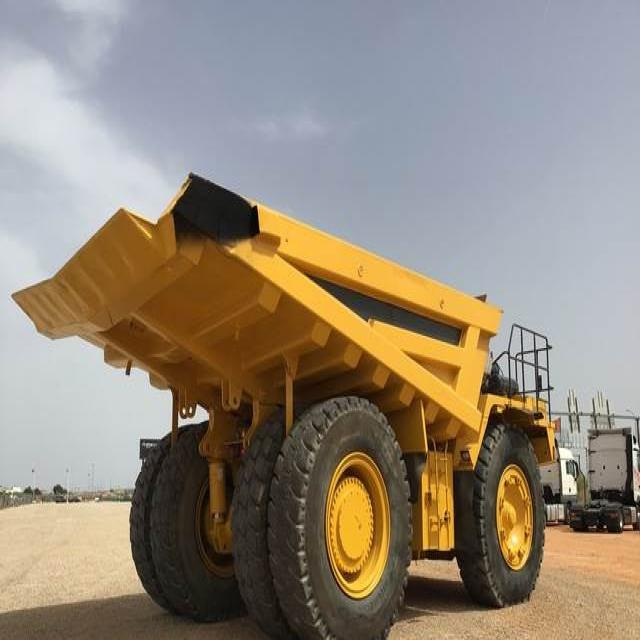dump_truck: (11, 133, 566, 640)
